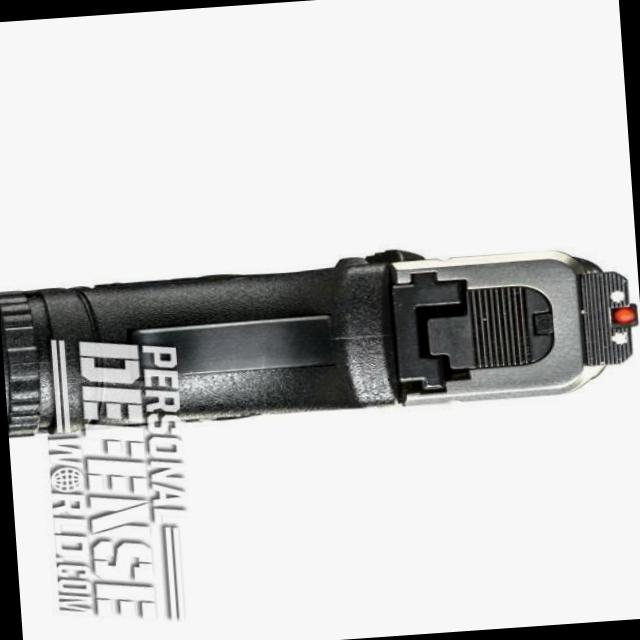handgun: (0, 202, 639, 460)
